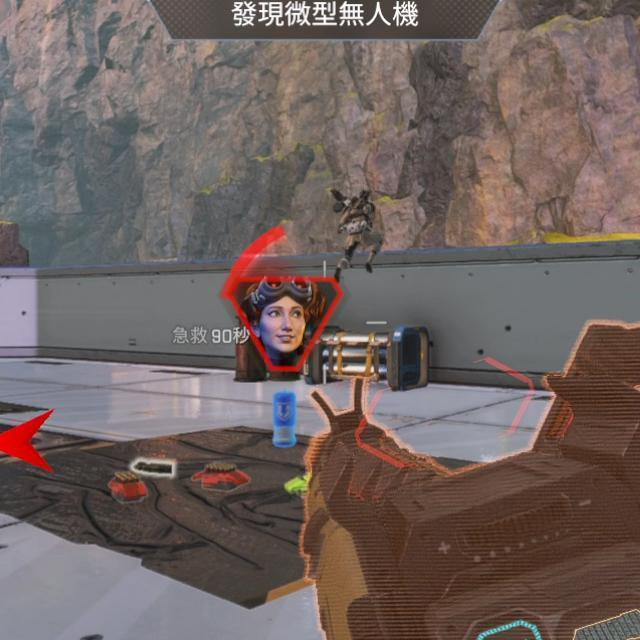avatar: (330, 186, 385, 285)
